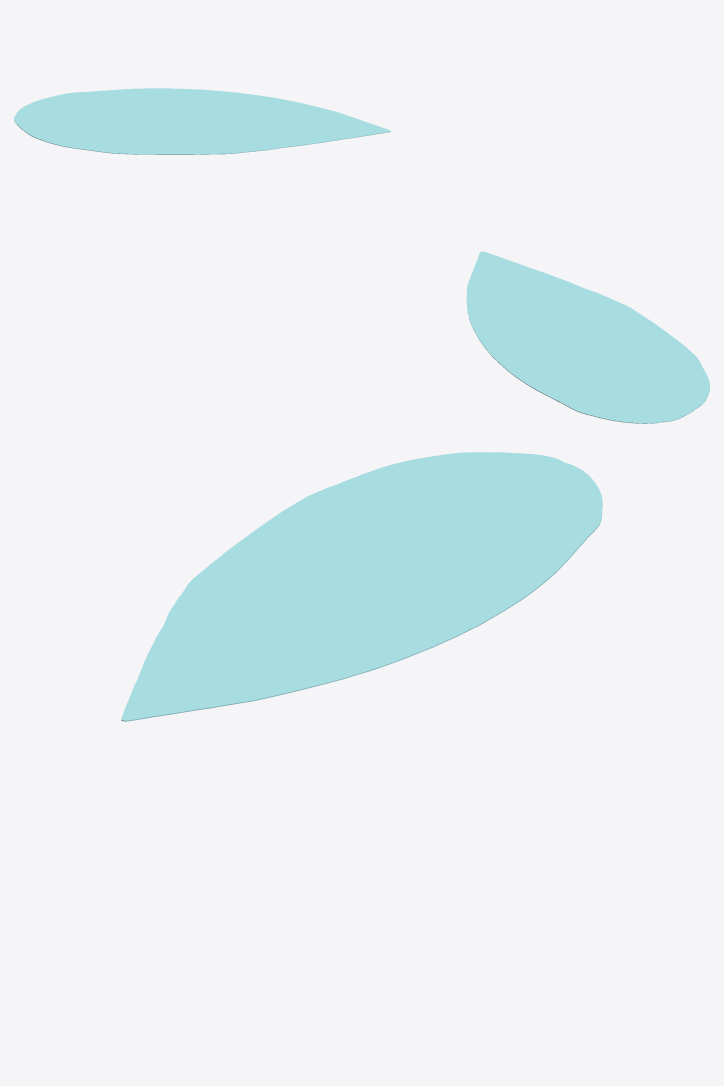
The model's file is sky_1.obj.
The picture shows the model from 3 angles, top to bottom: view 1: azimuth 30°, elevation 25°; view 2: azimuth 150°, elevation 25°; view 3: azimuth 270°, elevation 25°; orthographic projection. The views are drawn at different scales.
Visible parts, largest first — view 1: Unbreakable_Plane.001; view 2: Unbreakable_Plane.001; view 3: Unbreakable_Plane.001.
Boxes of the visible parts, left/top/right/bottom form: Unbreakable_Plane.001: left=14, top=88, right=390, bottom=154; Unbreakable_Plane.001: left=466, top=251, right=709, bottom=423; Unbreakable_Plane.001: left=121, top=452, right=602, bottom=1071.
Bounding box in the file's own units: 2.84 × 0.002 × 0.9357.
